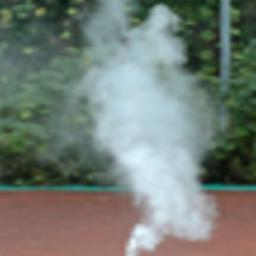smoke: (0, 0, 225, 255)
